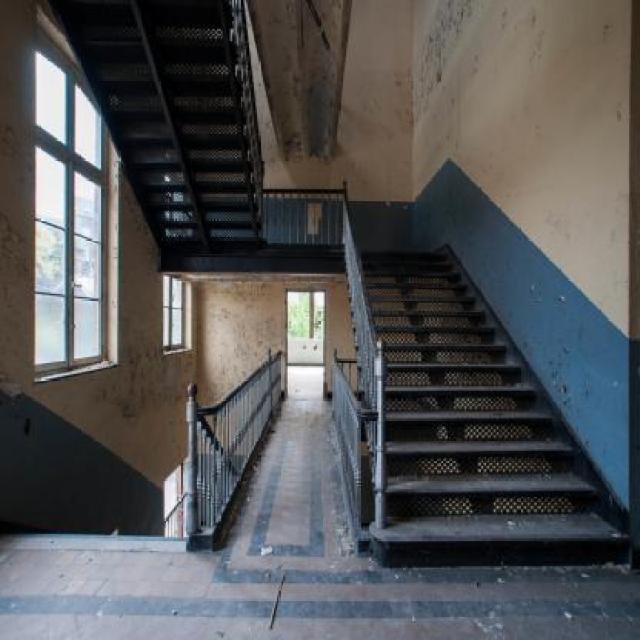stair: (362, 234, 616, 554), (49, 0, 263, 245)
